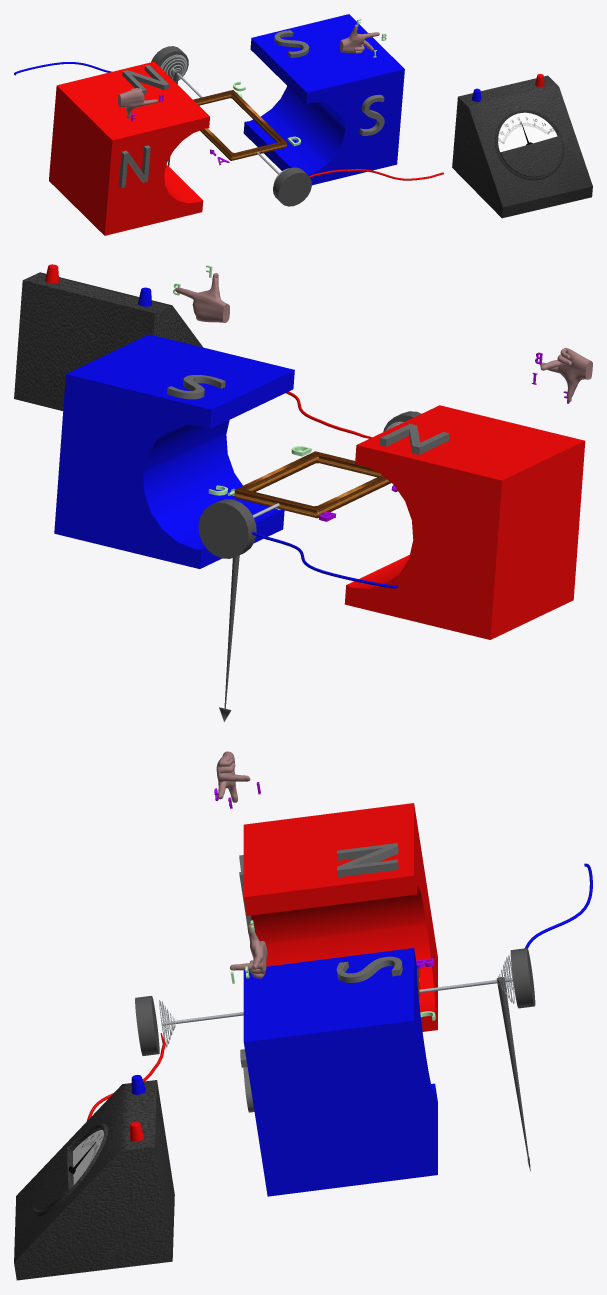
The picture shows the model from 3 angles, top to bottom: view 1: azimuth 30°, elevation 25°; view 2: azimuth 150°, elevation 25°; view 3: azimuth 270°, elevation 25°; orthographic projection. The views are drawn at different scales.
Parts seen in each view (by area): view 1: magnet1, magnet, Measurement_of_internal_resistance:galvano_meter:pCube2, pCube5, pCylinder2, typeMesh1, typeMesh10, pCylinder3, Cube.005, left_hand:Cube.005, typeMesh11, typeMesh2 (+2 smaller); view 2: magnet1, magnet, Measurement_of_internal_resistance:galvano_meter:pCube2, pCube5, pCylinder3, Cube.005, left_hand:Cube.005, typeMesh10, typeMesh2, pCylinder5, pCylinder57; view 3: magnet, magnet1, Measurement_of_internal_resistance:galvano_meter:pCube2, typeMesh10, pCylinder3, pCylinder2, pCylinder5, typeMesh2, left_hand:Cube.005, Cube.005.
Part boxes in pixels (x1,y1,x2,y2): magnet1: (49,61,209,235); magnet: (243,14,404,185); Measurement_of_internal_resistance:galvano_meter:pCube2: (452,75,592,218); pCube5: (193,90,286,160); pCylinder2: (273,167,311,206); typeMesh1: (119,145,150,187); typeMesh10: (122,65,168,94); pCylinder3: (151,46,188,80); Cube.005: (340,24,379,53); left_hand:Cube.005: (118,88,157,118); typeMesh11: (359,94,384,135); typeMesh2: (274,30,309,57); magnet1: (344,405,585,639); magnet: (54,334,294,568); Measurement_of_internal_resistance:galvano_meter:pCube2: (14,272,203,410); pCube5: (234,451,390,518); pCylinder3: (198,499,256,558); Cube.005: (175,273,229,322); left_hand:Cube.005: (540,347,592,401); typeMesh10: (379,424,449,454); typeMesh2: (166,375,225,399); pCylinder5: (224,555,239,708); pCylinder57: (252,531,397,588); magnet: (243,948,437,1196); magnet1: (243,803,437,1031); Measurement_of_internal_resistance:galvano_meter:pCube2: (14,1080,174,1280); typeMesh10: (337,843,398,877); pCylinder3: (510,948,535,1008); pCylinder2: (135,996,159,1055); pCylinder5: (496,977,529,1160); typeMesh2: (336,956,402,982); left_hand:Cube.005: (216,751,250,802); Cube.005: (230,924,267,978).
Bounding box in the file's own units: 1.57 × 0.7904 × 1.27.
Materials: 13 (5 with a texture image).
